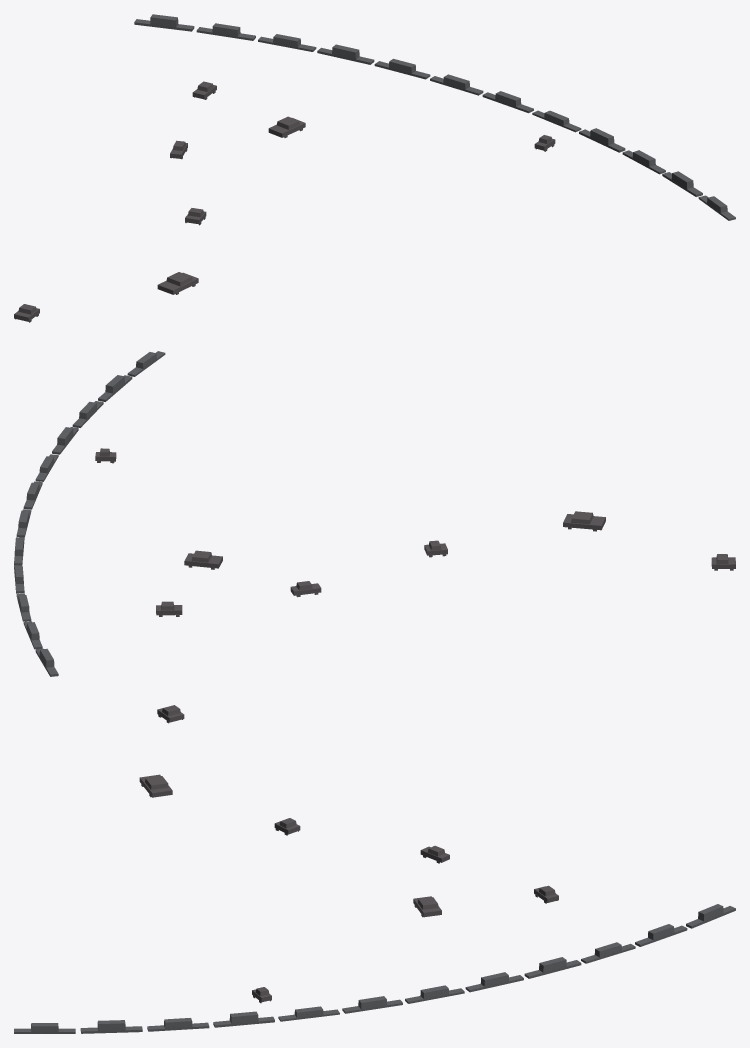
Rendered from SM_City_AlTariqAlMasdud_0.fbx.
3 views of the same model, one above another, from view 1: azimuth 30°, elevation 25°; view 2: azimuth 150°, elevation 25°; view 3: azimuth 270°, elevation 25° (orthographic). The views are drawn at different scales.
Visible parts, largest first — view 1: SM_City_AlTariqAlMasdud_0; view 2: SM_City_AlTariqAlMasdud_0; view 3: SM_City_AlTariqAlMasdud_0.
Boxes of the visible parts, x1,y1,x2,y2 form: SM_City_AlTariqAlMasdud_0: [14, 14, 735, 322]; SM_City_AlTariqAlMasdud_0: [14, 351, 735, 676]; SM_City_AlTariqAlMasdud_0: [14, 705, 735, 1033].
Size of the model in its own units: 10253 by 150 by 9712.
2 materials, 2 textured.
